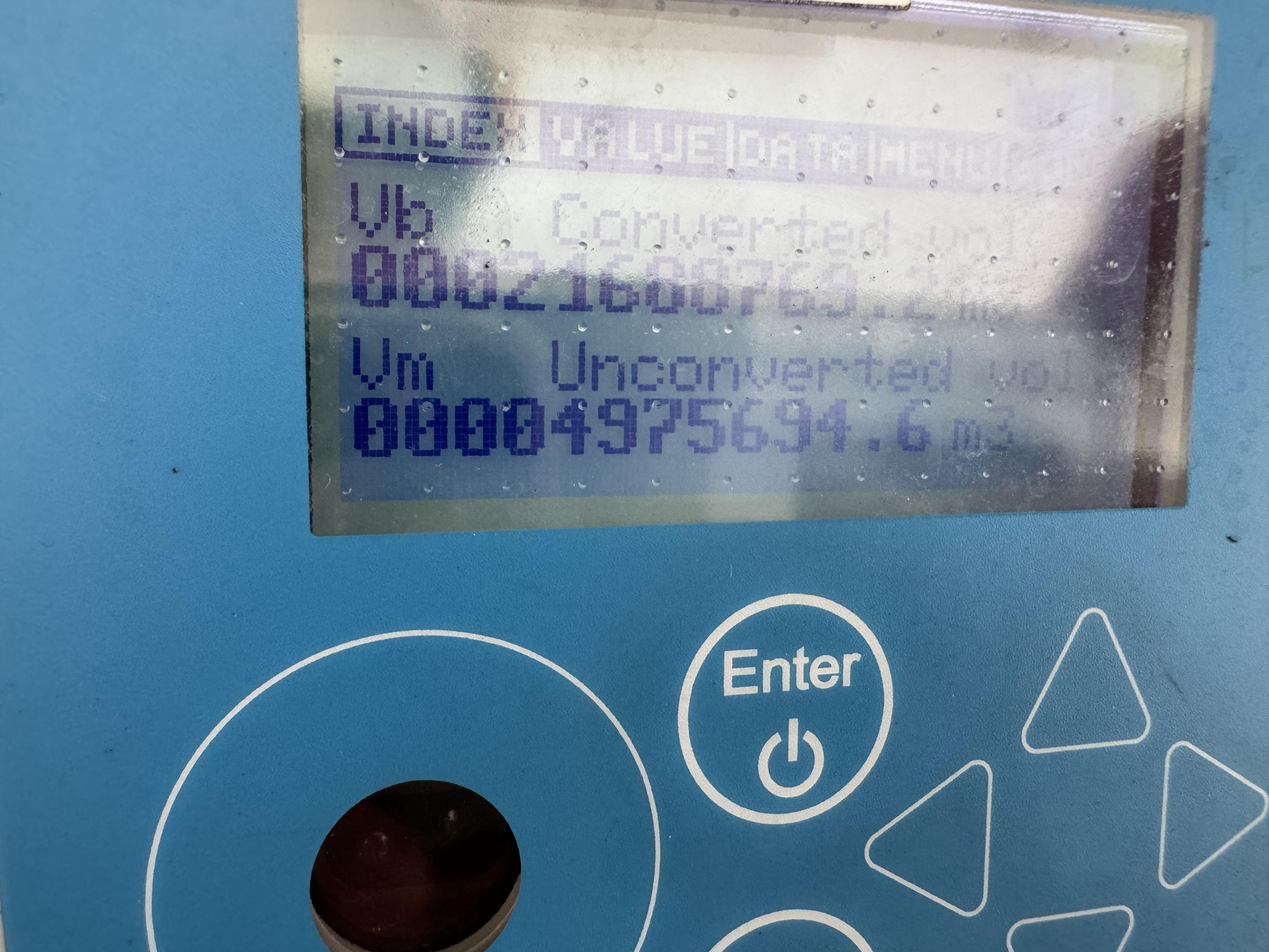digital_screen: (297, 0, 1227, 535)
